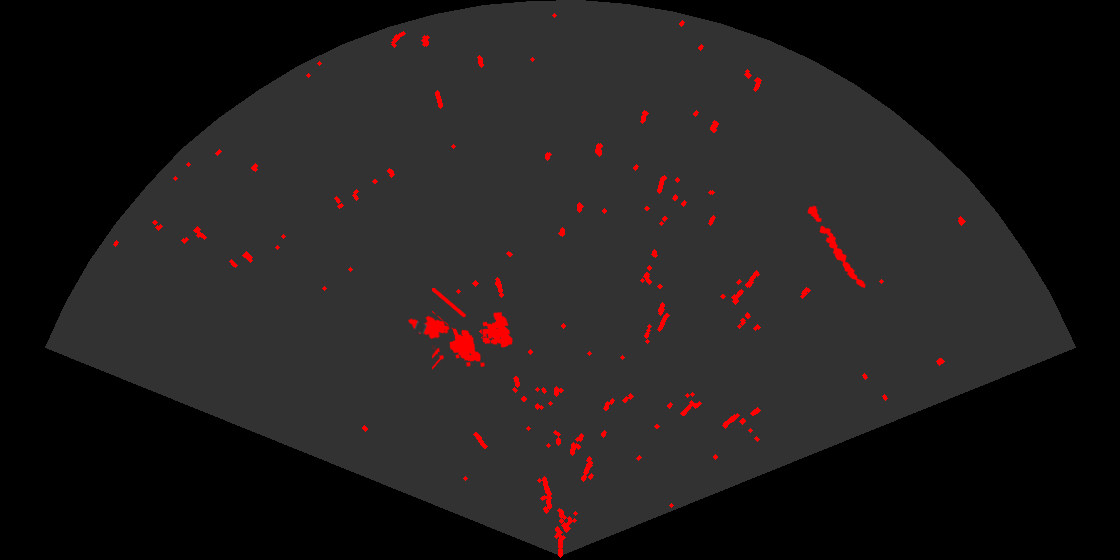AUV: (406, 314, 451, 341)
cage: (432, 288, 514, 371)
chain: (806, 204, 867, 290)
